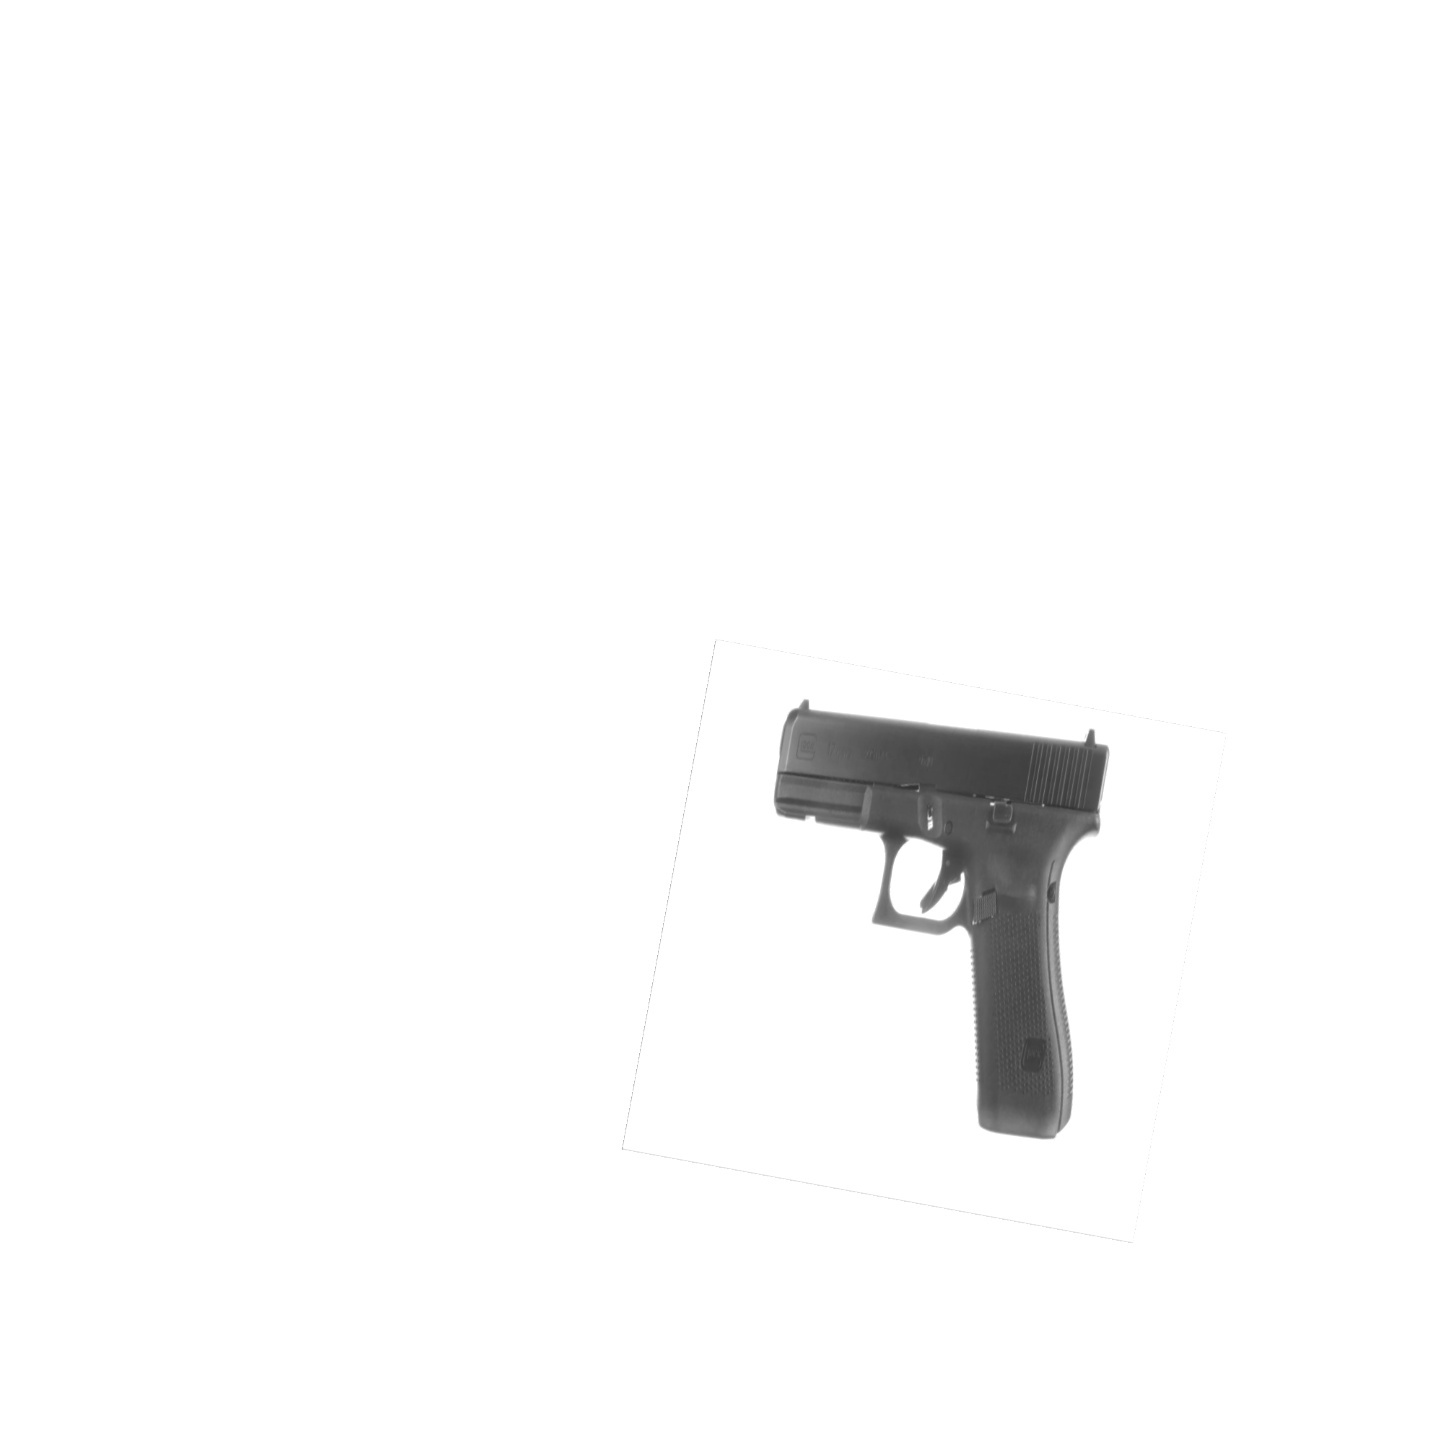gun: (772, 699, 1110, 1138)
